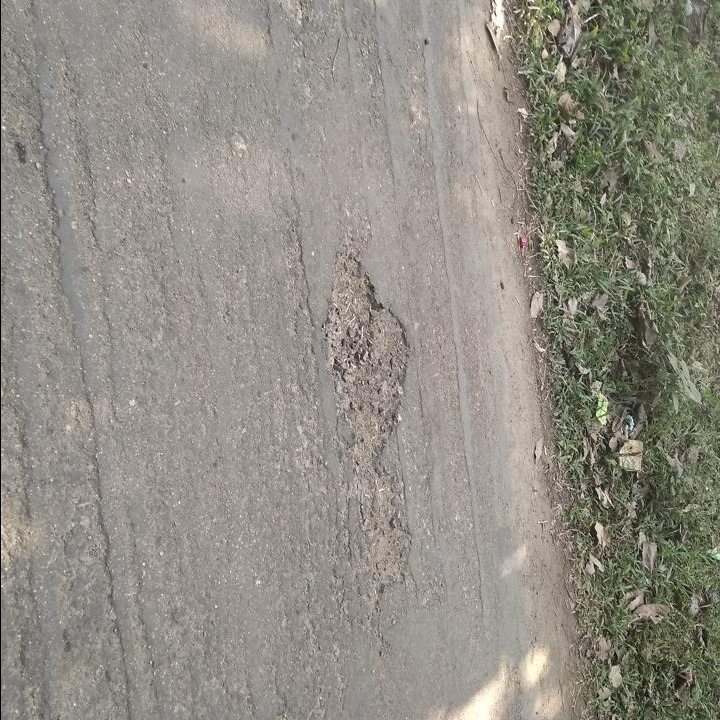pothole: (323, 240, 418, 600)
